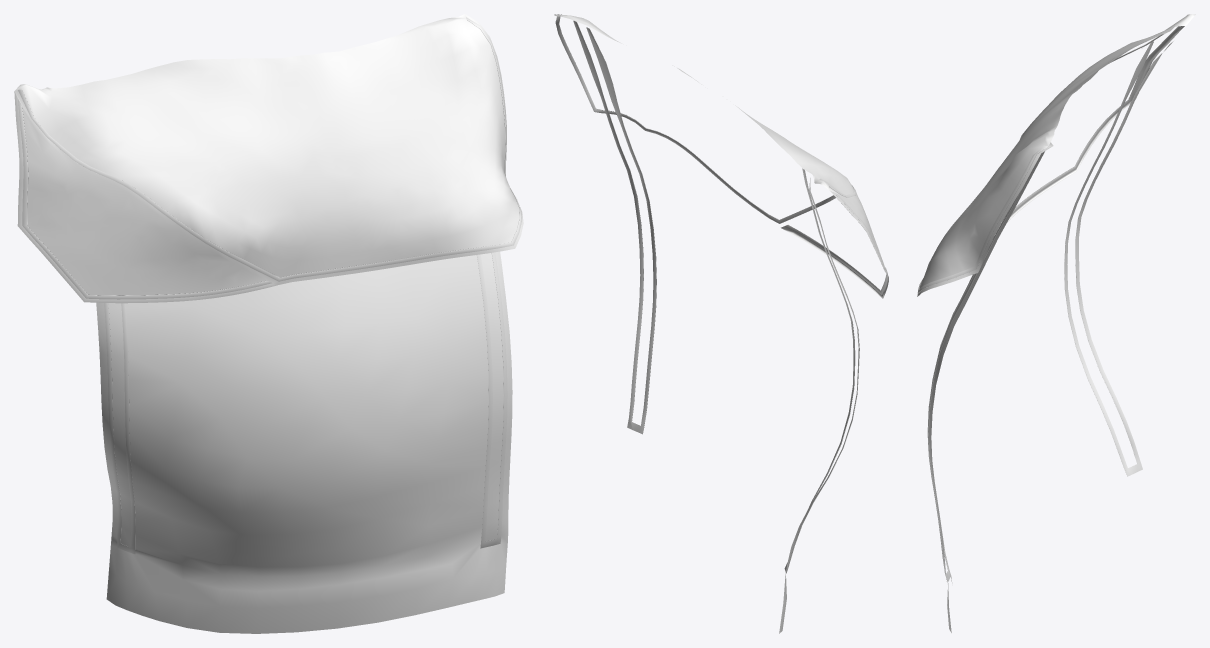
File: Jac_Pocket_Decor_LEFT_V1.glb
3 views of the same model, side by side, from view 1: azimuth 30°, elevation 25°; view 2: azimuth 150°, elevation 25°; view 3: azimuth 270°, elevation 25° (orthographic). The views are drawn at different scales.
Visible parts, largest first — view 1: Jac_Pocket_LEFT_V1.001, Jac_Rope_Pocket_LEFT_V1.001; view 2: Jac_Rope_Pocket_LEFT_V1.001, Jac_Pocket_LEFT_V1.001; view 3: Jac_Pocket_LEFT_V1.001, Jac_Rope_Pocket_LEFT_V1.001.
Part boxes in pixels (x1=…): Jac_Pocket_LEFT_V1.001: x1=14, y1=14, x2=523, y2=633; Jac_Rope_Pocket_LEFT_V1.001: x1=18, y1=17, x2=521, y2=554; Jac_Rope_Pocket_LEFT_V1.001: x1=555, y1=14, x2=887, y2=573; Jac_Pocket_LEFT_V1.001: x1=554, y1=14, x2=888, y2=633; Jac_Pocket_LEFT_V1.001: x1=917, y1=14, x2=1195, y2=632; Jac_Rope_Pocket_LEFT_V1.001: x1=917, y1=26, x2=1181, y2=582.
Size of the model in its own units: 0.2067 by 0.2663 by 0.1286.
2 materials, 2 textured.
